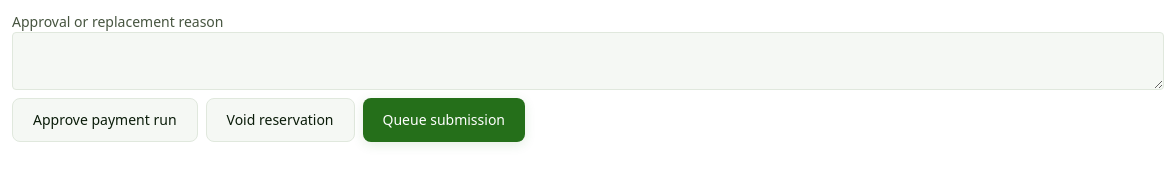
Scenario: payout form states › asks before voiding a reservation and reports a refused transition
This screenshot has width=1176, height=186.
Type "Staff payment review" into the text box at x=588, y=61, box [12,32,1164,90]
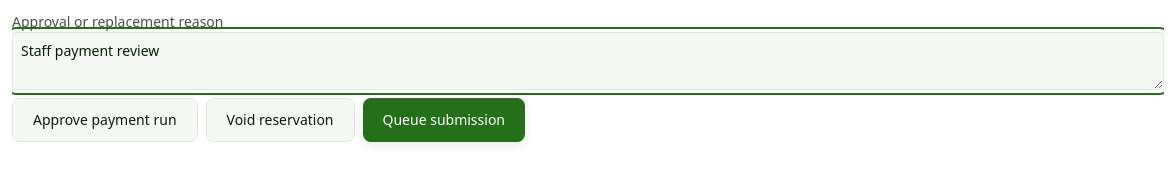
Click the button "Void reservation" at x=280, y=120, box [206,98,354,142]
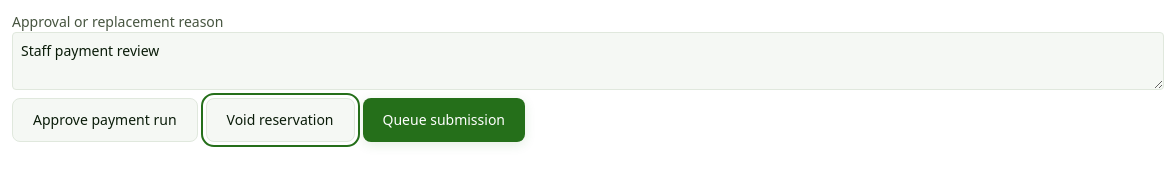
Click the button "Queue submission" at x=444, y=120, box [362,98,525,142]
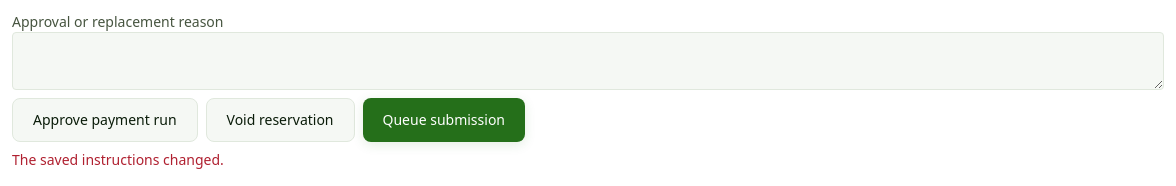
Now the message shows "saved instructions changed", box [12,150,224,169]
